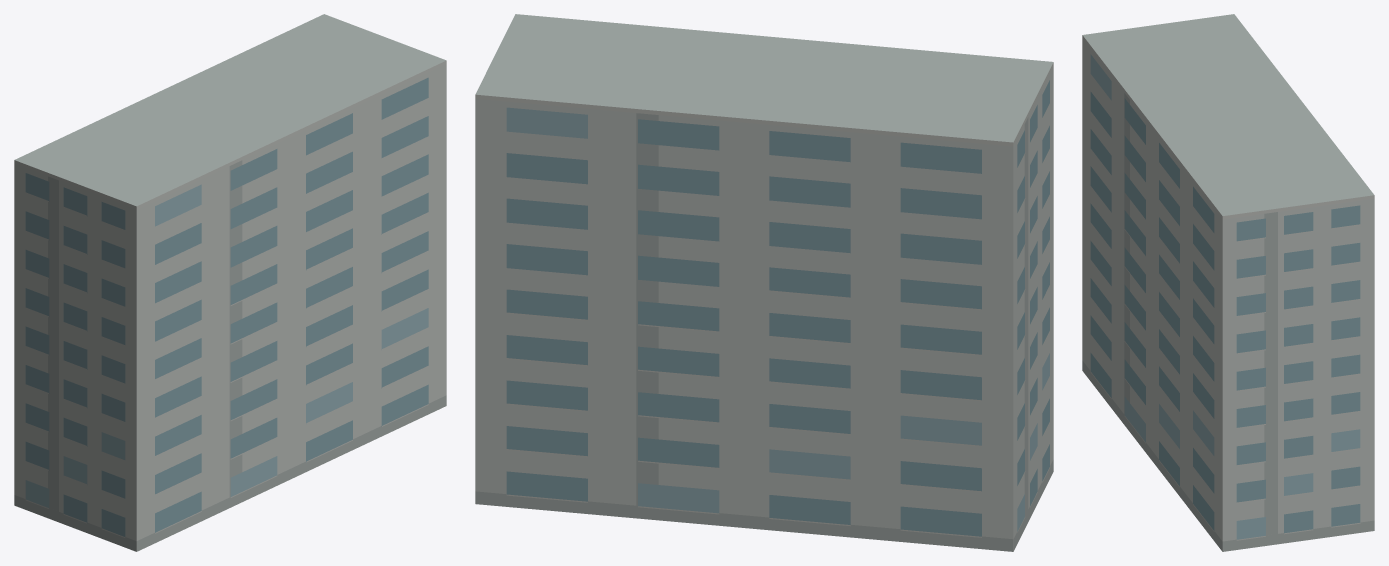
Rendered from residential-3d9e2cd8-85c9-4084-8851-7e134c6ef3ad.glb.
3 views of the same model, side by side, from view 1: azimuth 30°, elevation 25°; view 2: azimuth 150°, elevation 25°; view 3: azimuth 270°, elevation 25° (orthographic). The views are drawn at different scales.
Visible parts, largest first — view 1: residential-3d9e2cd8-85c9-4084-8851-7e134c6ef3ad.tmp; view 2: residential-3d9e2cd8-85c9-4084-8851-7e134c6ef3ad.tmp; view 3: residential-3d9e2cd8-85c9-4084-8851-7e134c6ef3ad.tmp.
Part boxes in pixels (left/top/right/bottom): residential-3d9e2cd8-85c9-4084-8851-7e134c6ef3ad.tmp: left=14, top=14, right=446, bottom=551; residential-3d9e2cd8-85c9-4084-8851-7e134c6ef3ad.tmp: left=475, top=14, right=1053, bottom=551; residential-3d9e2cd8-85c9-4084-8851-7e134c6ef3ad.tmp: left=1082, top=14, right=1374, bottom=551.
Size of the model in its own units: 31 by 24 by 18.94.
